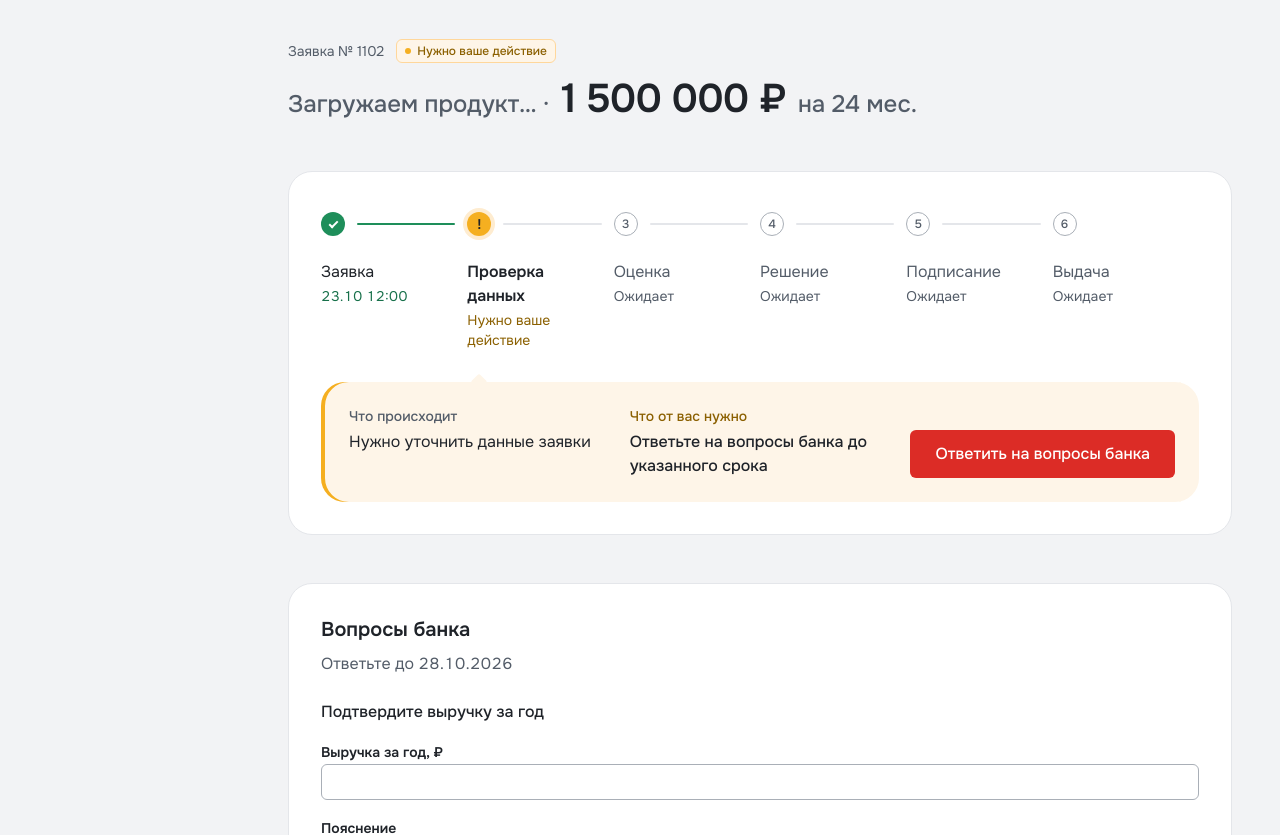
дозапрос 409: закрытие перезагружает данные, валидация показывает ошибку поля
The width and height of the screenshot is (1280, 835).
Type "14000000" into the field labelled "Выручка за год, ₽" at {"x": 760, "y": 782}, box [321,764,1199,800]
(page scrolled)
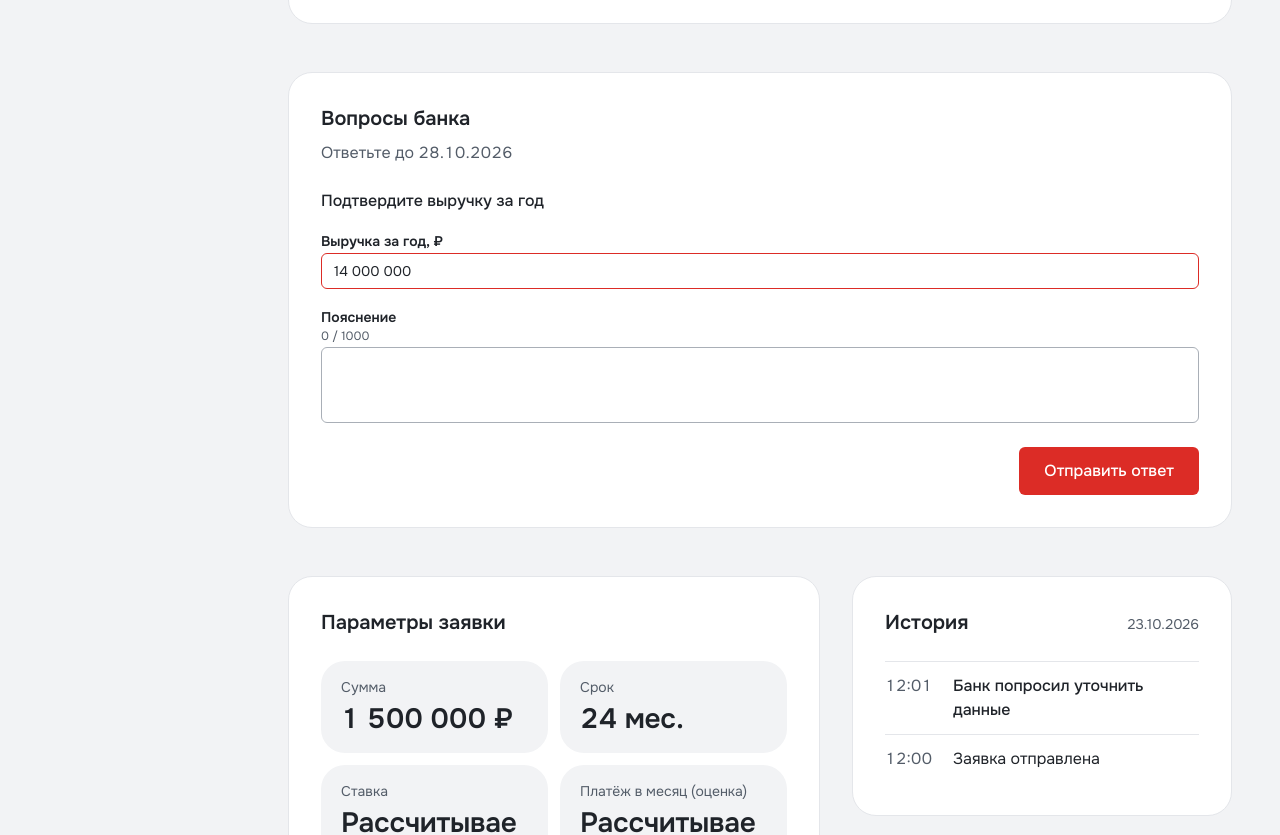
Type "Часть выручки в другом банке" into the text box labelled "Пояснение" at {"x": 760, "y": 385}, box [321,347,1199,423]
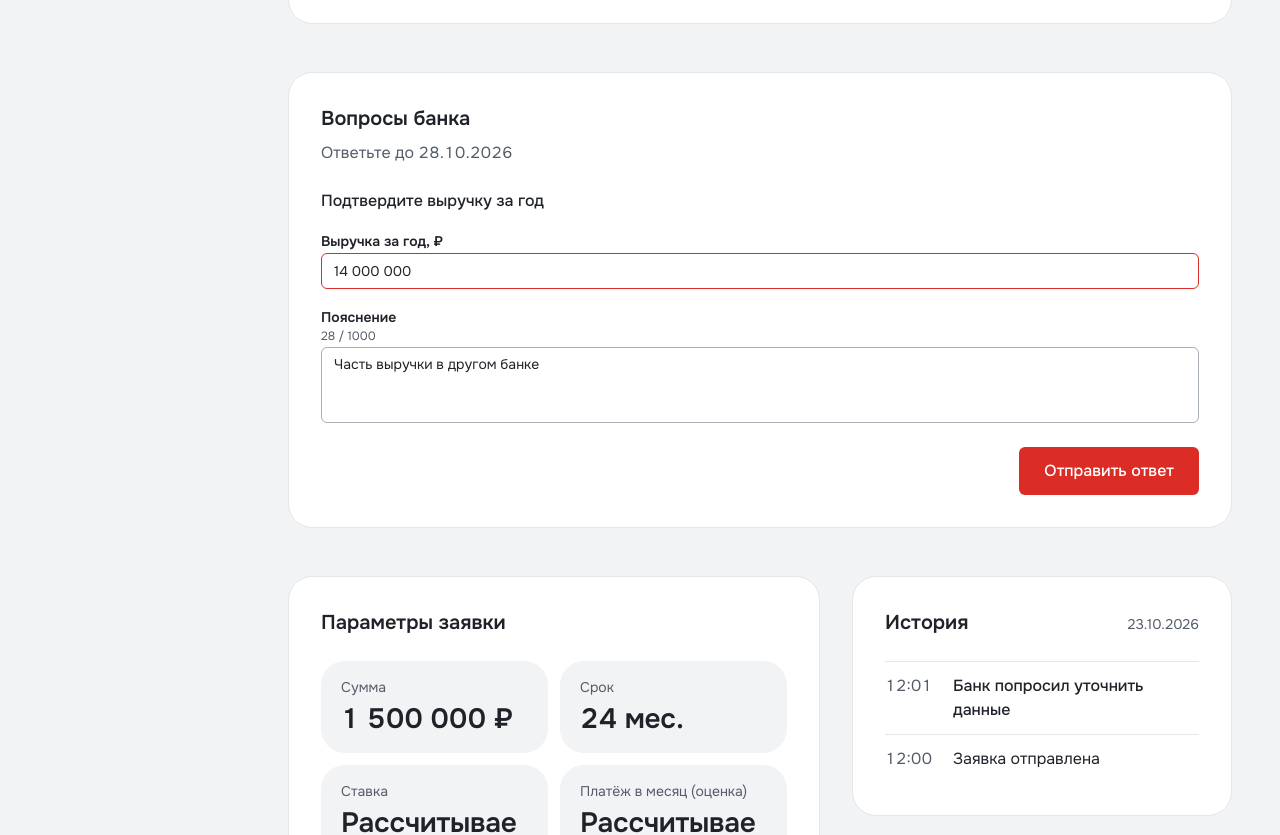
Click the button "Отправить ответ" at {"x": 1109, "y": 471}, box [1019,447,1199,495]
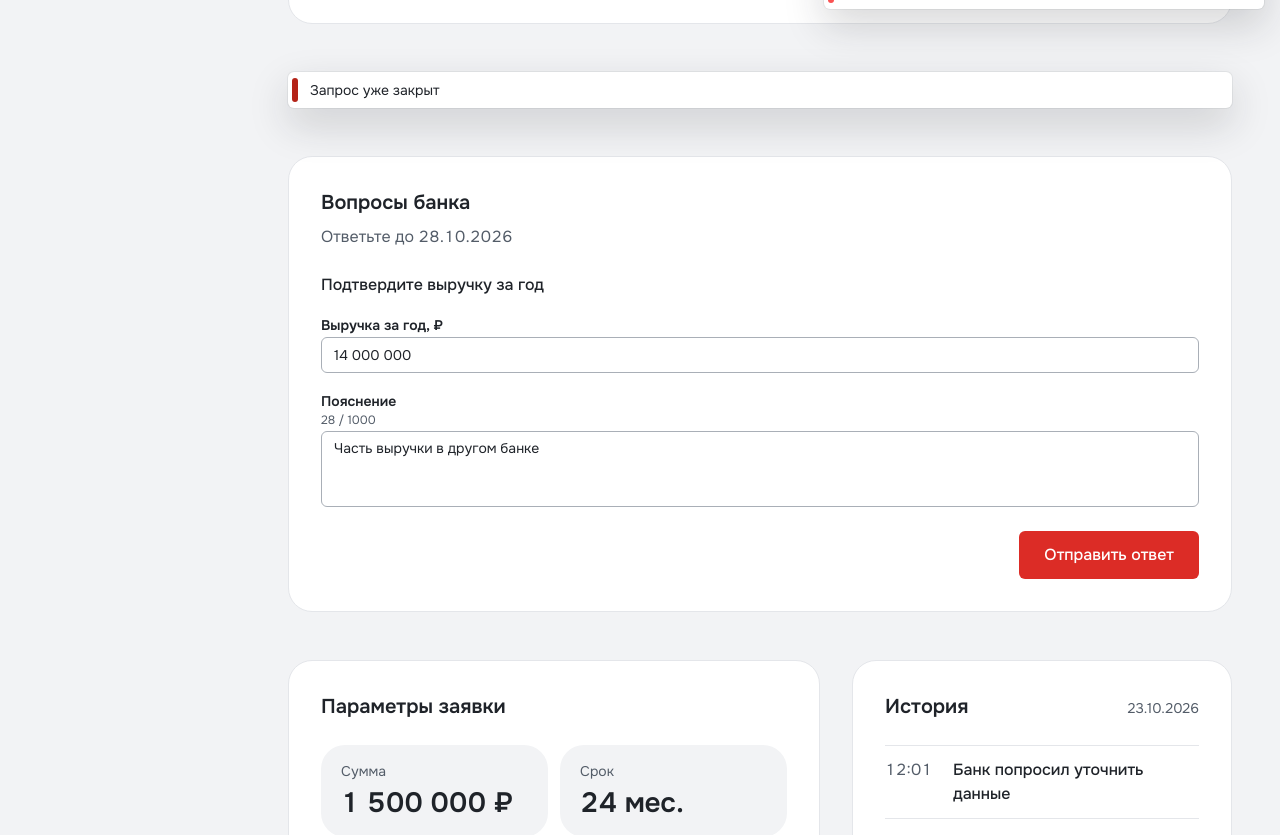
Check: the text "Запрос уже закрыт" is shown, box [310,81,439,99]
